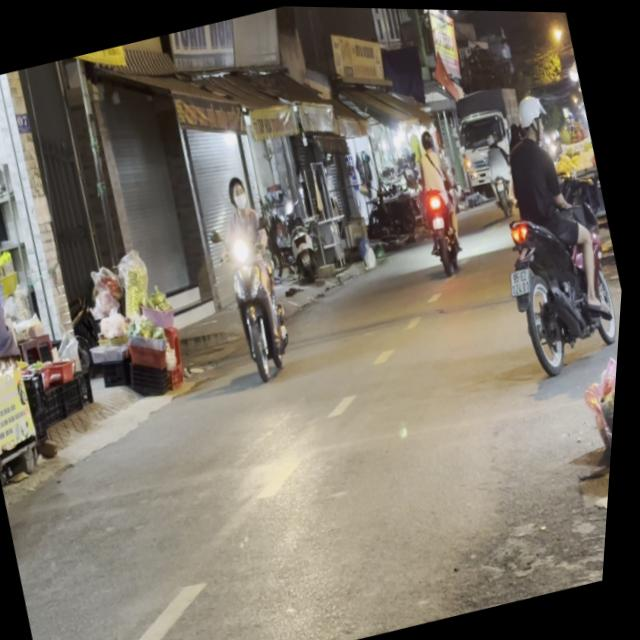helmet: (510, 86, 551, 141), (222, 169, 251, 211)
licenseplate: (457, 75, 636, 379), (196, 164, 313, 383)
nohelmet: (509, 262, 538, 292)
